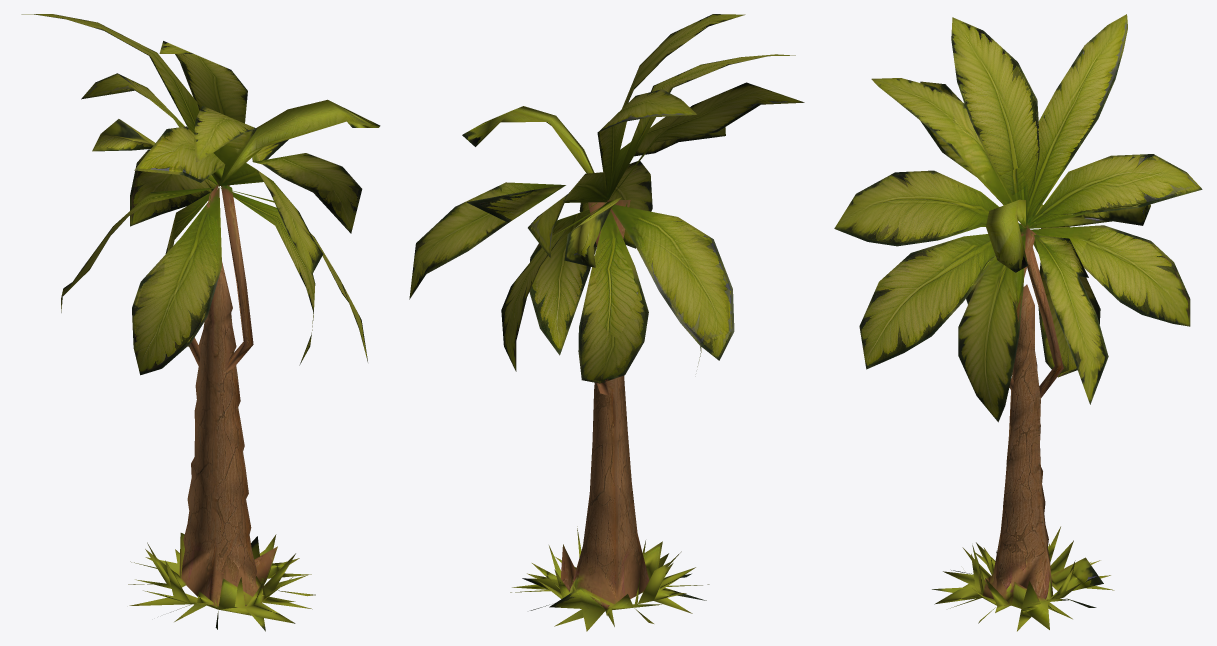
File: palm_tree_3d_model.fbx
3 views of the same model, side by side, from view 1: azimuth 30°, elevation 25°; view 2: azimuth 150°, elevation 25°; view 3: azimuth 270°, elevation 25° (orthographic). The views are drawn at different scales.
Visible parts, largest first — view 1: tripo_node_b37695fc; view 2: tripo_node_b37695fc; view 3: tripo_node_b37695fc.
Boxes of the visible parts, <box> form: tripo_node_b37695fc: <box>21,14,380,631</box>; tripo_node_b37695fc: <box>409,14,804,631</box>; tripo_node_b37695fc: <box>834,14,1202,631</box>.
Size of the model in its own units: 0.5605 by 0.998 by 0.627.
